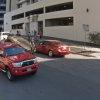Car: (28, 32, 75, 65)
